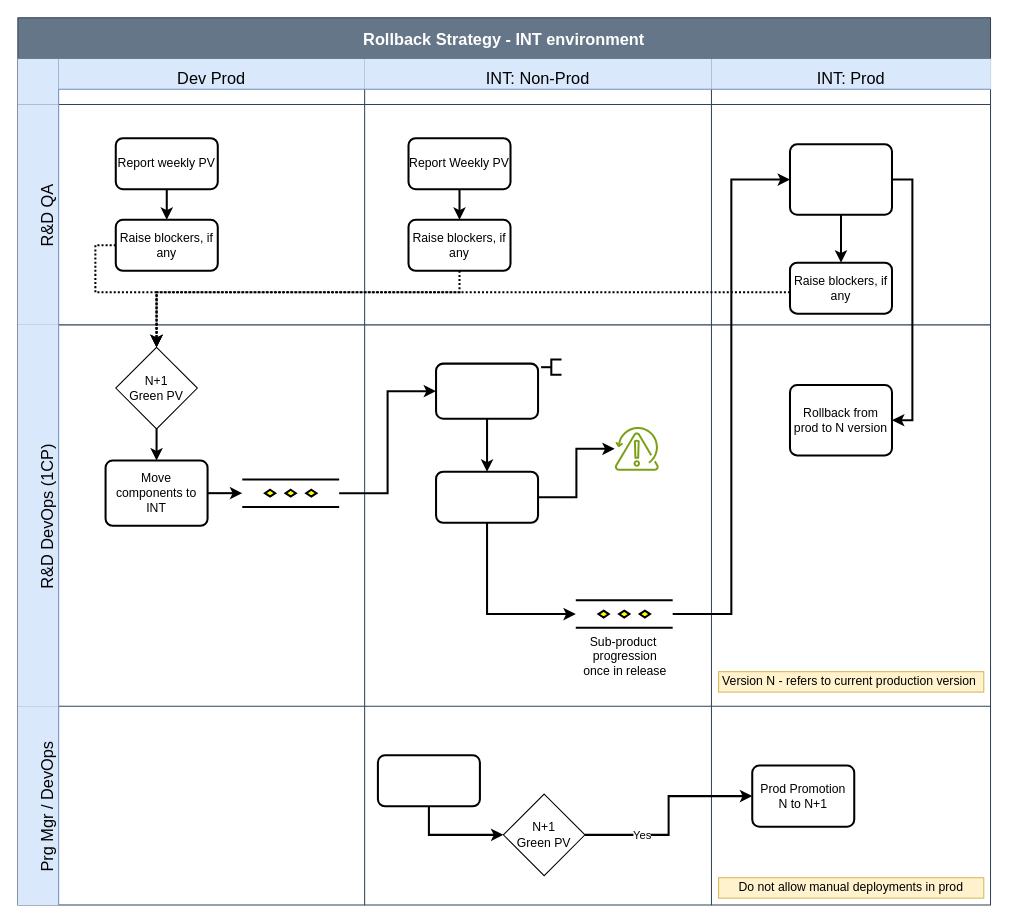
The diagram is 1010 pixels wide and 923 high, and some of its shapes have lost their labels. The shapes that lost their labels are listed below. From the top down, each one's centre as x and y in pixels, then its label:
At pixel 840 179: "Test sub-product backward compatibility".
At pixel 551 366: "<component>.V<n+1>".
At pixel 487 390: "Deploy to non-prod using 1CP".
At pixel 636 448: "Revert components / Sub-products with BVT issues".
At pixel 290 492: "Daily progression".
At pixel 487 496: "Run BVT".
At pixel 428 780: "Request from Prog Mgr for promotion".
